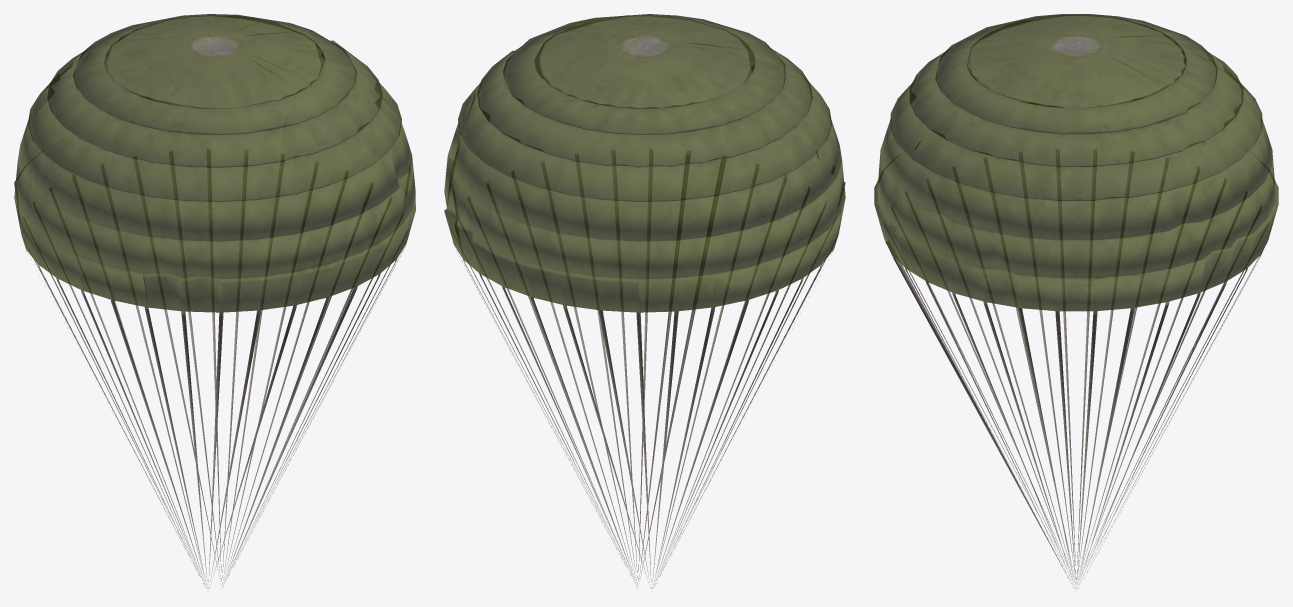
Rendered from chute.glb.
3 views of the same model, side by side, from view 1: azimuth 30°, elevation 25°; view 2: azimuth 150°, elevation 25°; view 3: azimuth 270°, elevation 25° (orthographic).
Parts seen in each view (by area): view 1: defaultMaterial; view 2: defaultMaterial; view 3: defaultMaterial.
Part boxes in pixels (x1,y1,x2,y2): defaultMaterial: [14, 14, 415, 588]; defaultMaterial: [444, 14, 845, 588]; defaultMaterial: [874, 14, 1278, 588].
Bounding box in the file's own units: 3.73 × 5.6 × 3.77.
1 material, 1 textured.
